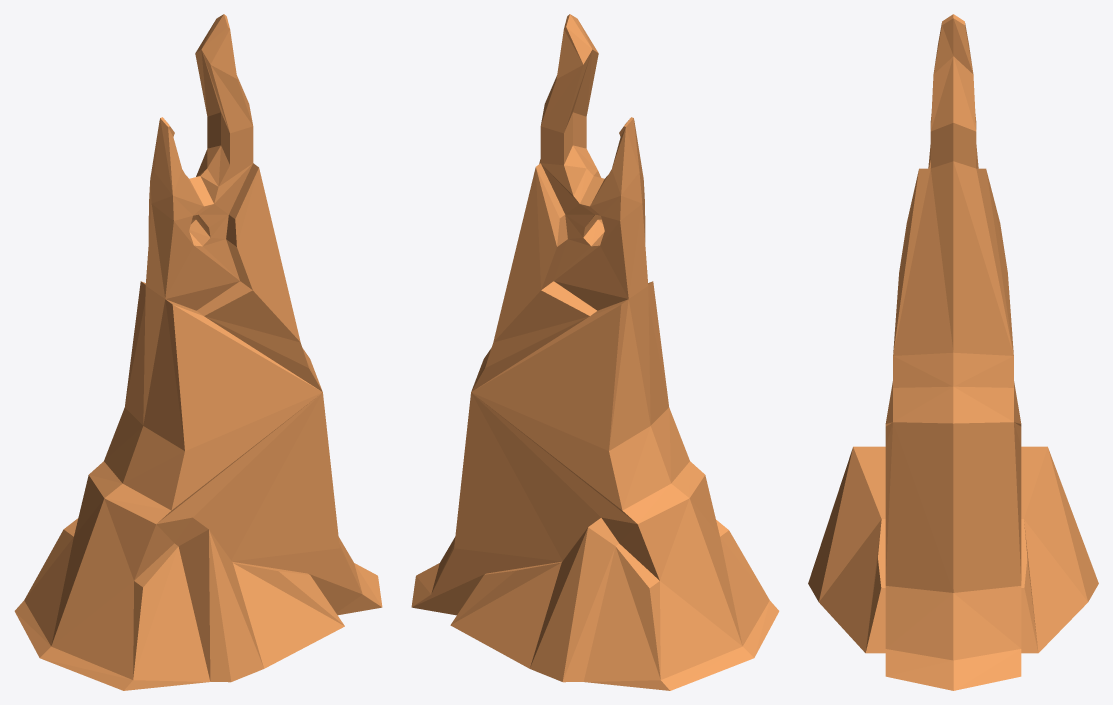
File: Rock_Large_Canyon_Eroded_04.FBX
The picture shows the model from 3 angles, left to right: view 1: azimuth 30°, elevation 25°; view 2: azimuth 150°, elevation 25°; view 3: azimuth 270°, elevation 25°; orthographic projection.
Visible parts, largest first — view 1: Rock_Large_Canyon_Eroded_04; view 2: Rock_Large_Canyon_Eroded_04; view 3: Rock_Large_Canyon_Eroded_04.
Boxes of the visible parts, box(x1,y1,x2,y2) form: Rock_Large_Canyon_Eroded_04: box(14, 14, 382, 690); Rock_Large_Canyon_Eroded_04: box(411, 14, 779, 690); Rock_Large_Canyon_Eroded_04: box(808, 14, 1098, 690).
Bounding box in the file's own units: 7068 × 11961 × 5242.
